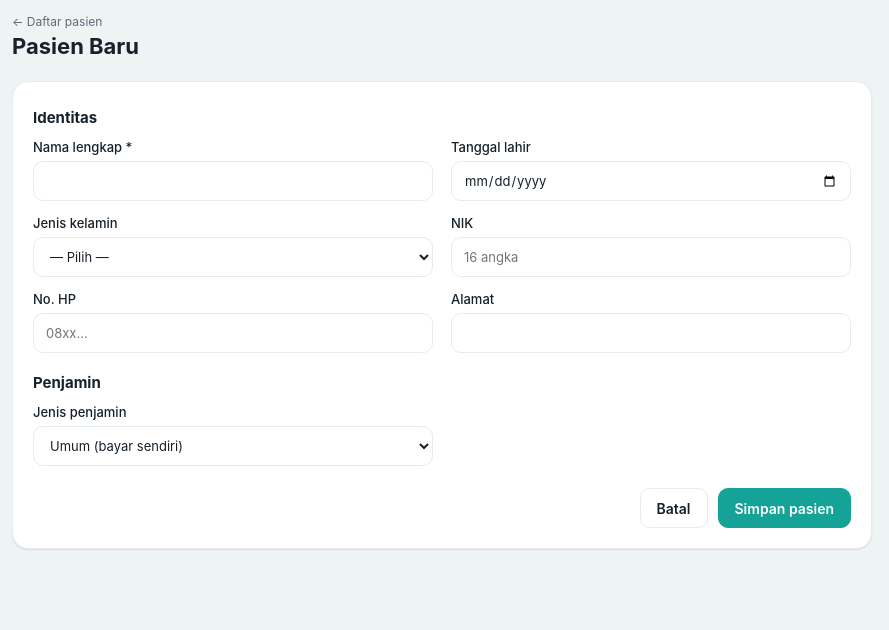
shows Indonesian validation messages and does not call the API
Type "12345" into the field labelled "NIK" at (651, 257), box 451,237 -> 851,277
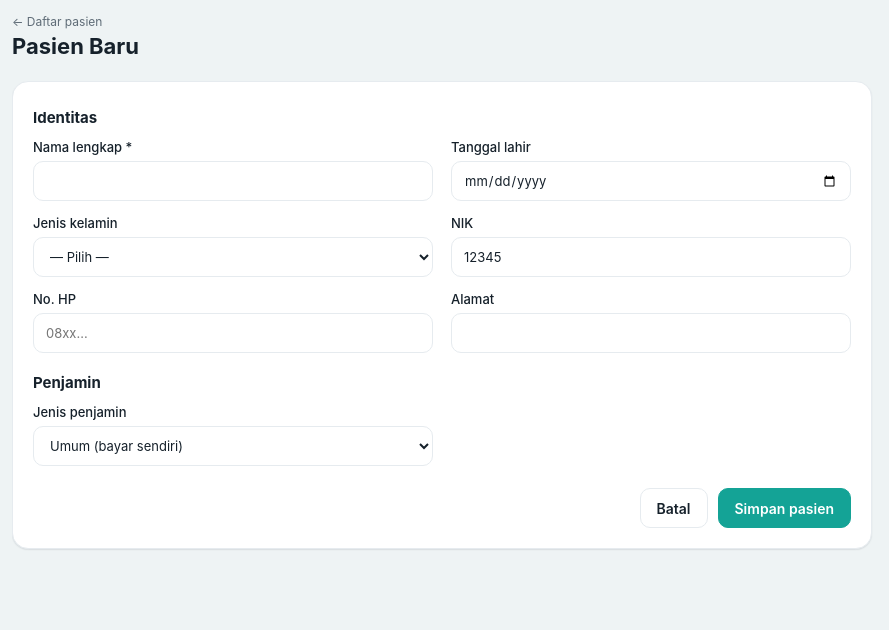
Type "abc" into the field labelled "No. HP" at (233, 333), box 33,313 -> 433,353
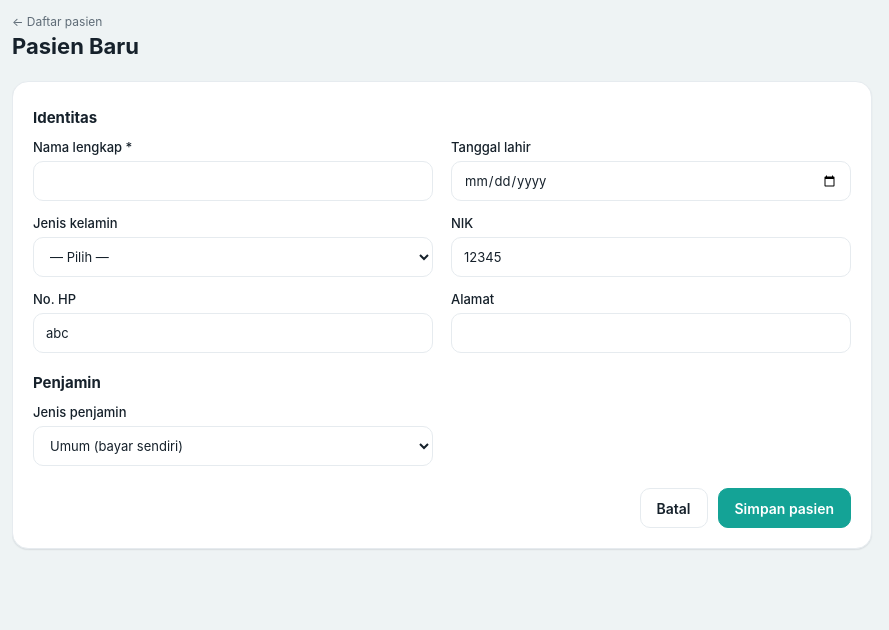
Type "2999-01-01" into the date field labelled "Tanggal lahir" at (651, 181), box 451,161 -> 851,201
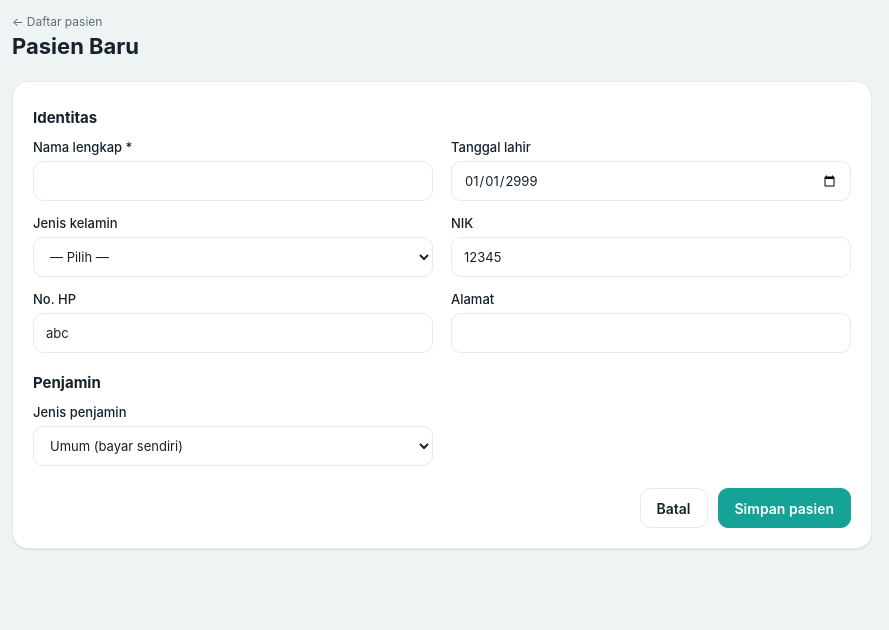
Click the button "Simpan pasien" at (784, 508), box 718,488 -> 851,528
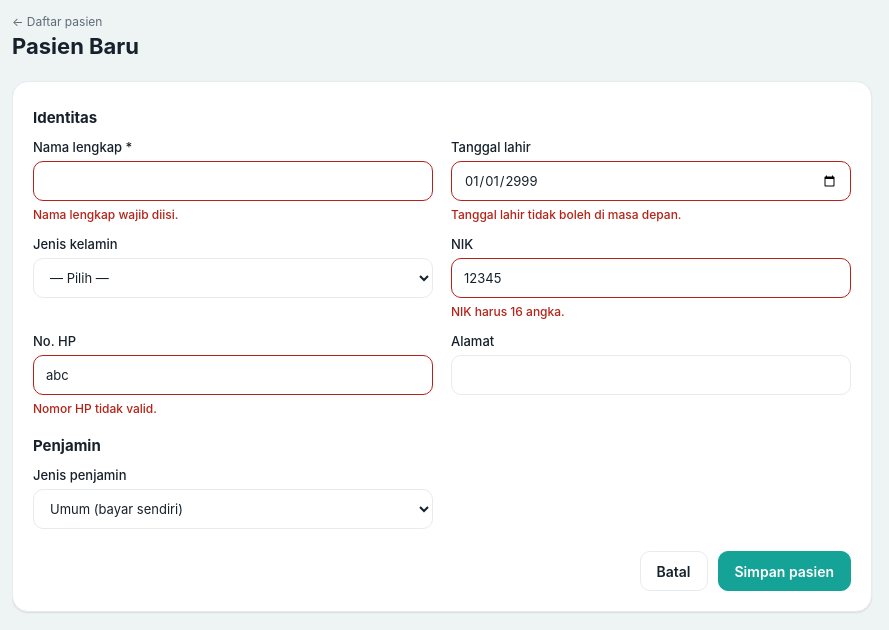
Expected: the text "Nama lengkap wajib diisi." is shown, 33,207 -> 178,222
Expected: the text "NIK harus 16 angka." is shown, 451,304 -> 565,319
Expected: the text "Nomor HP tidak valid." is shown, 33,401 -> 157,416
